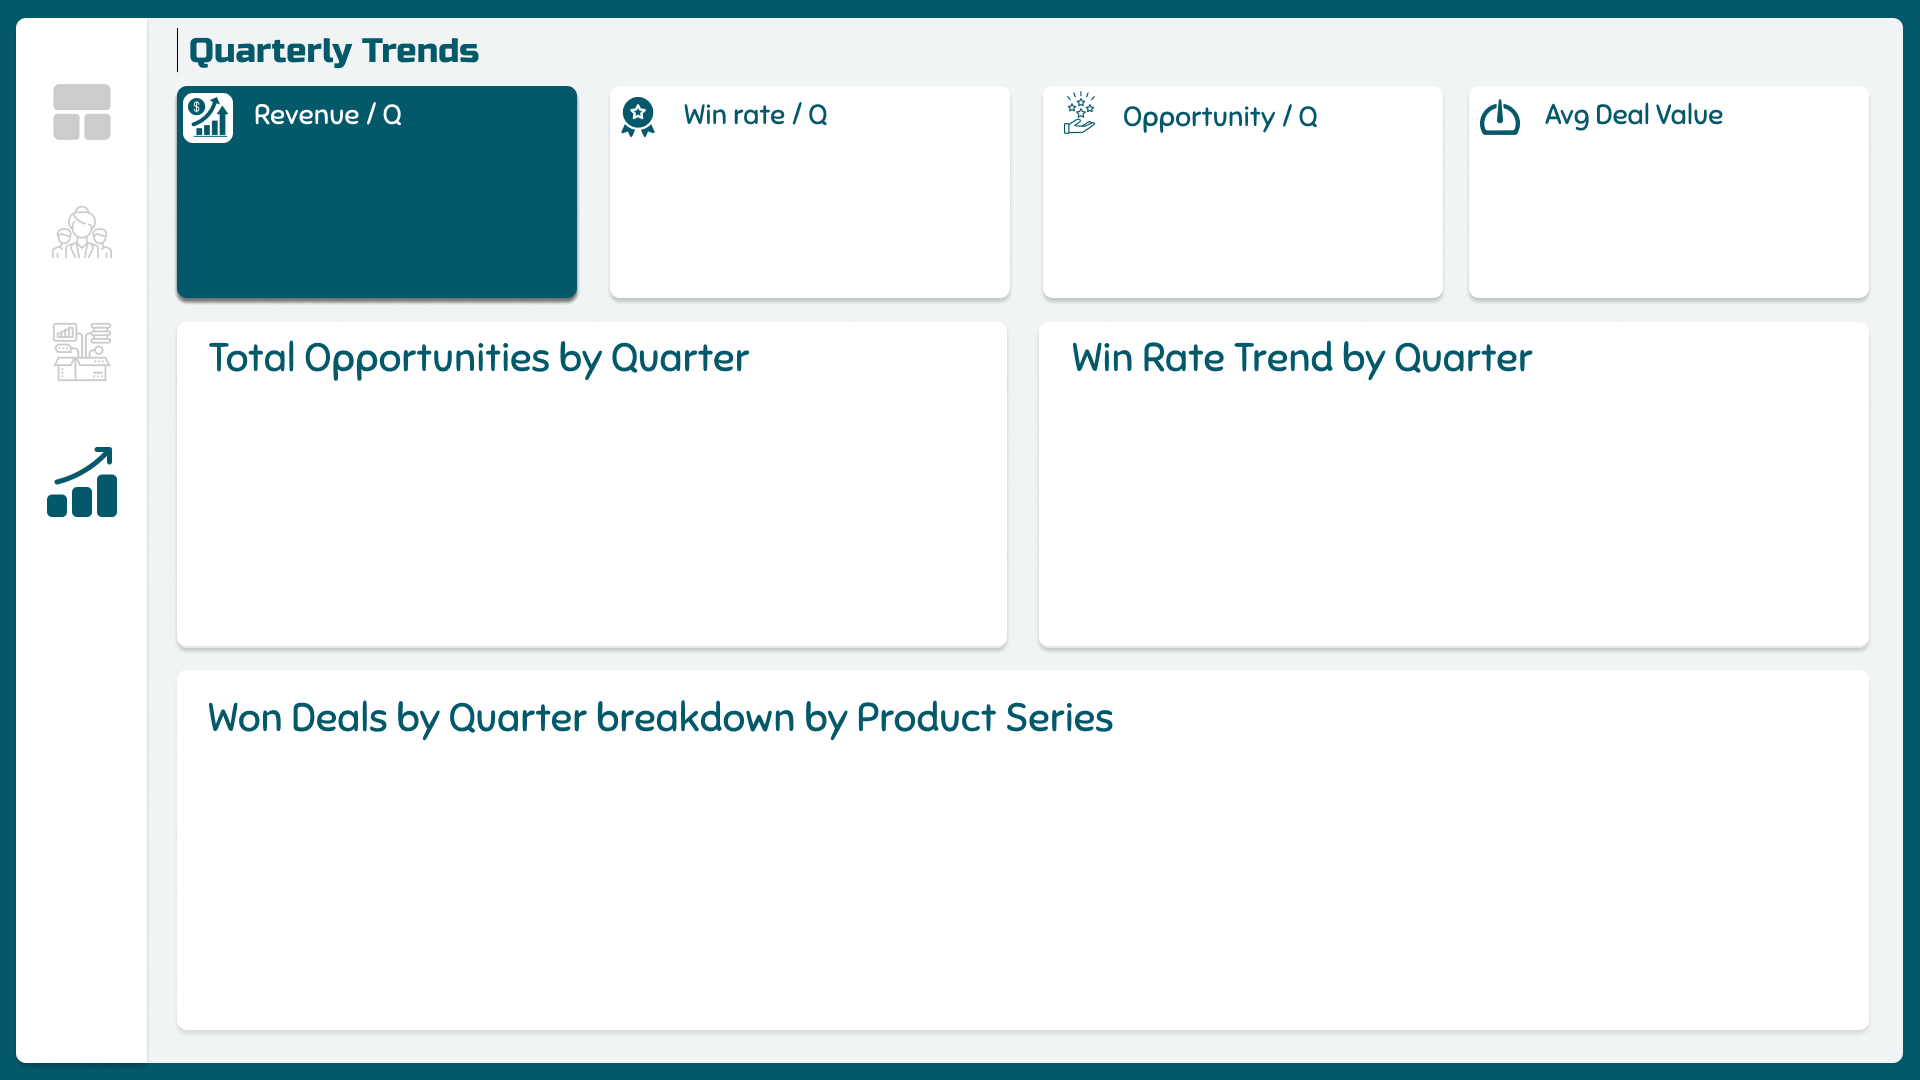

Layout of this report page (visuals, bound fields, positions):
{"tool":"powerbi","page":{"name":"Quarterly Trends","canvas":[1920,1080],"ordinal":3},"visuals":[{"type":"actionButton","box":[33.8,71.4,99.6,80.8],"z":0},{"type":"actionButton","box":[33.8,189.8,99.6,80.8],"z":1000},{"type":"actionButton","box":[33.8,310,99.6,80.8],"z":2000},{"type":"lineChart","fields":{"Y":["sales_pipeline.Total Revenue"],"Category":["sales_pipeline.year_quarter"]},"box":[210.9,129.9,344.5,158.1],"z":3000},{"type":"lineChart","fields":{"Category":["sales_pipeline.year_quarter"],"Y":["sales_pipeline.Win Rate"]},"box":[647.7,129.9,344.5,158.1],"z":4000},{"type":"lineChart","fields":{"Category":["sales_pipeline.year_quarter"],"Y":["CountNonNull(sales_pipeline.opportunity_id)"]},"box":[1076.9,129.9,346.4,158.1],"z":5000},{"type":"lineChart","fields":{"Category":["sales_pipeline.year_quarter"],"Y":["sales_pipeline.Avg Deal Value"]},"box":[1496.8,129.9,346.4,158.1],"z":6000},{"type":"lineChart","fields":{"Category":["sales_pipeline.year_quarter"],"Y":["CountNonNull(sales_pipeline.opportunity_id)"]},"box":[195.8,389.7,796.4,237.2],"z":7000},{"type":"lineChart","fields":{"Category":["sales_pipeline.year_quarter"],"Y":["sales_pipeline.Win Rate"]},"box":[1046.8,391.6,796.4,237.2],"z":8000},{"type":"lineChart","fields":{"Category":["sales_pipeline.year_quarter"],"Y":["sales_pipeline.Won Deals"],"Series":["products.series"]},"box":[211.9,739.9,1630.4,249.1],"z":9000}]}

Visuals, with their boxes on the page's 1920x1080 design canvas (x1, y1, x2, y2). These are canvas units, not pixel positions in the 1920x1080 screenshot, which may show the page scaled, cropped or inside an application window:
actionButton: BBox(34, 71, 133, 152)
actionButton: BBox(34, 190, 133, 271)
actionButton: BBox(34, 310, 133, 391)
lineChart - sales_pipeline.Total Revenue x sales_pipeline.year_quarter: BBox(211, 130, 555, 288)
lineChart - sales_pipeline.year_quarter x sales_pipeline.Win Rate: BBox(648, 130, 992, 288)
lineChart - sales_pipeline.year_quarter x CountNonNull(sales_pipeline.opportunity_id): BBox(1077, 130, 1423, 288)
lineChart - sales_pipeline.year_quarter x sales_pipeline.Avg Deal Value: BBox(1497, 130, 1843, 288)
lineChart - sales_pipeline.year_quarter x CountNonNull(sales_pipeline.opportunity_id): BBox(196, 390, 992, 627)
lineChart - sales_pipeline.year_quarter x sales_pipeline.Win Rate: BBox(1047, 392, 1843, 629)
lineChart - sales_pipeline.year_quarter x sales_pipeline.Won Deals: BBox(212, 740, 1842, 989)
